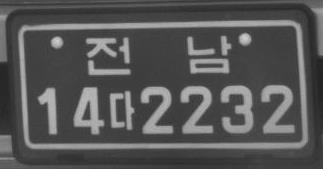1: (34, 86, 61, 135)
2: (259, 83, 296, 134), (140, 84, 175, 135), (179, 84, 214, 134)
3: (219, 84, 254, 135)
4: (71, 85, 106, 135)
다: (108, 90, 136, 131)
전남_D: (84, 34, 232, 77)
